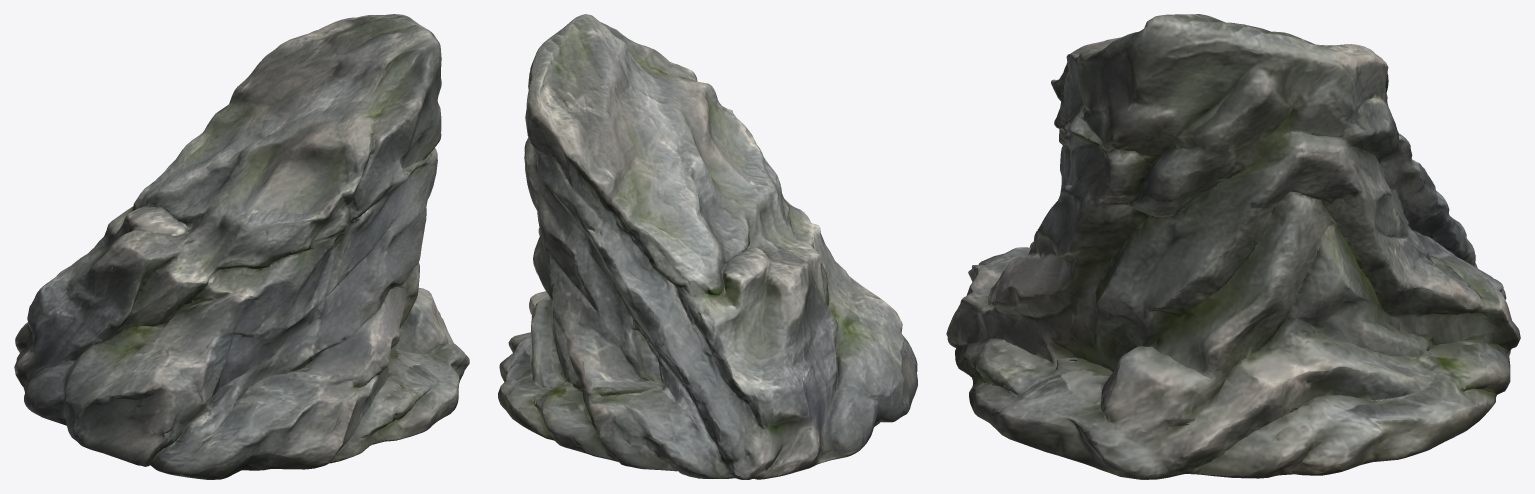
File: coastal-boulder-v001.glb
3 views of the same model, side by side, from view 1: azimuth 30°, elevation 25°; view 2: azimuth 150°, elevation 25°; view 3: azimuth 270°, elevation 25° (orthographic). The views are drawn at different scales.
Visible parts, largest first — view 1: geometry_0; view 2: geometry_0; view 3: geometry_0.
Part boxes in pixels (left/top/right/bottom): geometry_0: left=14, top=14, right=469, bottom=479; geometry_0: left=498, top=14, right=917, bottom=479; geometry_0: left=946, top=14, right=1520, bottom=479.
Size of the model in its own units: 1.2 by 1.04 by 1.2.
1 material, 1 textured.
